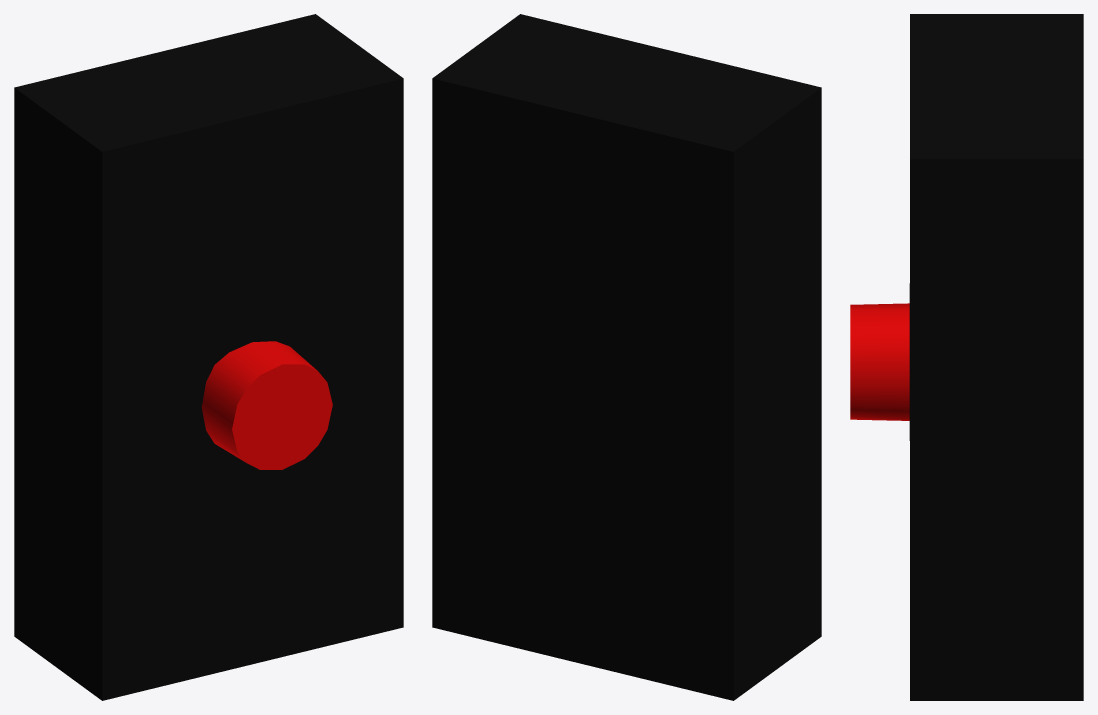
File: button_0.1.FBX
3 renders of one model, left to right at view 1: azimuth 30°, elevation 25°; view 2: azimuth 150°, elevation 25°; view 3: azimuth 270°, elevation 25°, orthographic.
Parts seen in each view (by area): view 1: Button; view 2: Button; view 3: Button.
Part boxes in pixels (x1,y1,x2,y2): Button: [14, 14, 403, 700]; Button: [432, 14, 821, 700]; Button: [850, 14, 1083, 700].
Size of the model in its own units: 59.78 by 104 by 40.62.
